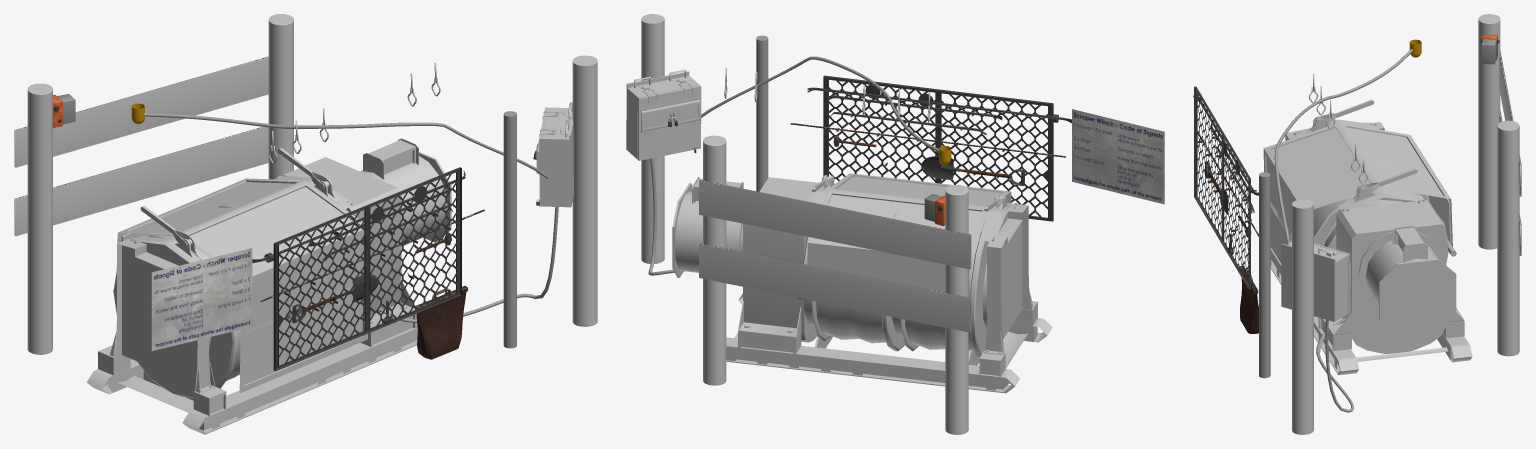
The model's file is Bottom winch power box on stick.fbx.
3 views of the same model, side by side, from view 1: azimuth 30°, elevation 25°; view 2: azimuth 150°, elevation 25°; view 3: azimuth 270°, elevation 25° (orthographic). The views are drawn at different scales.
Parts seen in each view (by area): view 1: Winch_001, Winch_006, Tool_rack_001__2_, Wood_barricades_015, Wood_barricades_015.002, Wood_barricades_015.001, Code_of_signals.002, Cylinder_004, Power_Box.003, Cylinder_011, BezierCurve_018, BezierCurve_003 (+1 smaller); view 2: Winch_001, Tool_rack_001__2_, Wood_barricades_015.002, Wood_barricades_015.001, Winch_006, Wood_barricades_015, Code_of_signals.002, Power_Box.003, Cylinder_004, Cylinder_011, BezierCurve_018, Signaling_Device_053 (+1 smaller); view 3: Winch_001, Winch_006, Wood_barricades_015, Tool_rack_001__2_, Cylinder_004, Power_Box.003, Cylinder_011, BezierCurve_018, BezierCurve_003, Wood_barricades_015.001, Signaling_Device_053.
Boxes of the visible parts, box(x1,y1,x2,y2) form: Winch_001: box(86, 138, 451, 434); Winch_006: box(116, 178, 367, 393); Tool_rack_001__2_: box(252, 167, 484, 371); Wood_barricades_015: box(27, 14, 293, 354); Wood_barricades_015.002: box(14, 126, 268, 236); Wood_barricades_015.001: box(14, 56, 268, 167); Code_of_signals.002: box(151, 248, 252, 350); Cylinder_004: box(572, 55, 597, 326); Power_Box.003: box(536, 102, 573, 207); Cylinder_011: box(503, 111, 516, 348); BezierCurve_018: box(143, 113, 548, 178); BezierCurve_003: box(378, 207, 558, 322); Winch_001: box(672, 175, 1052, 393); Tool_rack_001__2_: box(790, 75, 1071, 221); Wood_barricades_015.002: box(699, 243, 971, 332); Wood_barricades_015.001: box(699, 180, 971, 269); Winch_006: box(807, 173, 1011, 296); Wood_barricades_015: box(703, 135, 968, 434); Code_of_signals.002: box(1072, 109, 1164, 204); Power_Box.003: box(626, 69, 701, 160); Cylinder_004: box(641, 14, 664, 263); Cylinder_011: box(756, 35, 768, 191); BezierCurve_018: box(701, 56, 938, 152); Signaling_Device_053: box(924, 194, 945, 226); Winch_001: box(1270, 99, 1472, 375); Winch_006: box(1263, 123, 1452, 270); Wood_barricades_015: box(1478, 14, 1519, 356); Tool_rack_001__2_: box(1193, 86, 1258, 333); Cylinder_004: box(1292, 199, 1313, 434); Power_Box.003: box(1281, 239, 1350, 321); Cylinder_011: box(1259, 172, 1270, 378); BezierCurve_018: box(1274, 49, 1412, 242); BezierCurve_003: box(1316, 318, 1353, 412); Wood_barricades_015.001: box(1499, 51, 1521, 196); Signaling_Device_053: box(1480, 34, 1499, 64).
Bounding box in the file's own units: 358 × 177 × 232.
